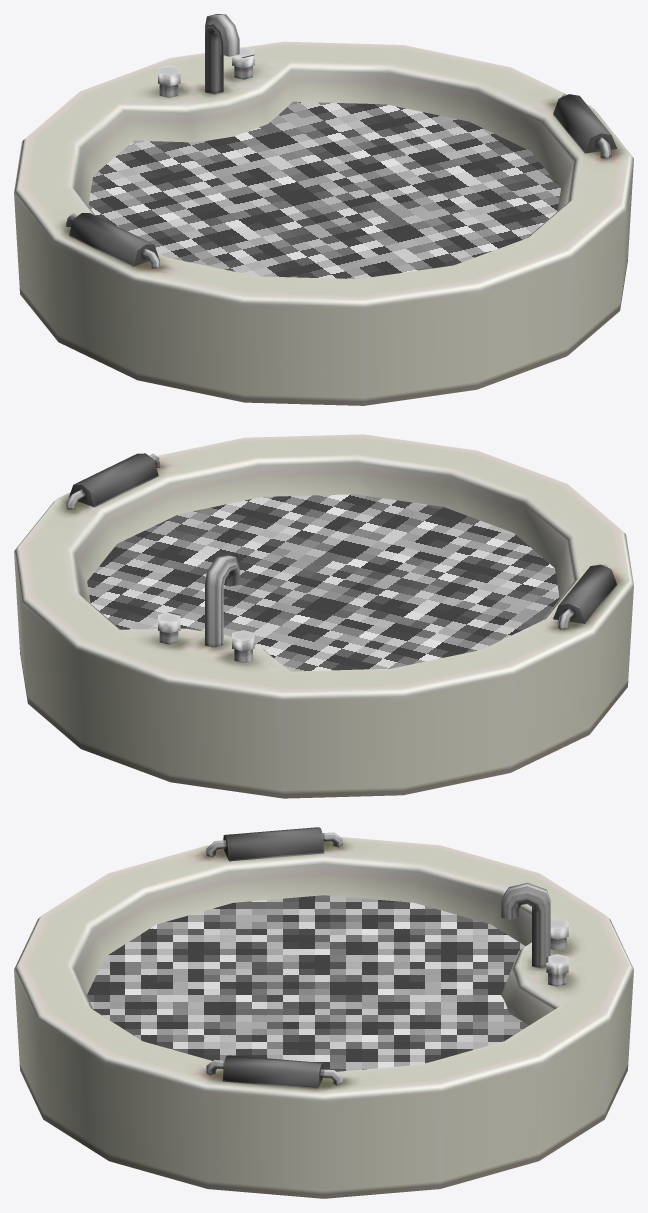
File: int_oth_jacuzzi.dae
The picture shows the model from 3 angles, top to bottom: view 1: azimuth 30°, elevation 25°; view 2: azimuth 150°, elevation 25°; view 3: azimuth 270°, elevation 25°; orthographic projection.
Visible parts, largest first — view 1: int_oth_jacuzzi; view 2: int_oth_jacuzzi; view 3: int_oth_jacuzzi.
Part boxes in pixels (x1,y1,x2,y2): int_oth_jacuzzi: (14,14,633,405); int_oth_jacuzzi: (14,434,633,798); int_oth_jacuzzi: (14,827,633,1198).
Size of the model in its own units: 58.14 by 19.19 by 58.14.
2 materials, 2 textured.
